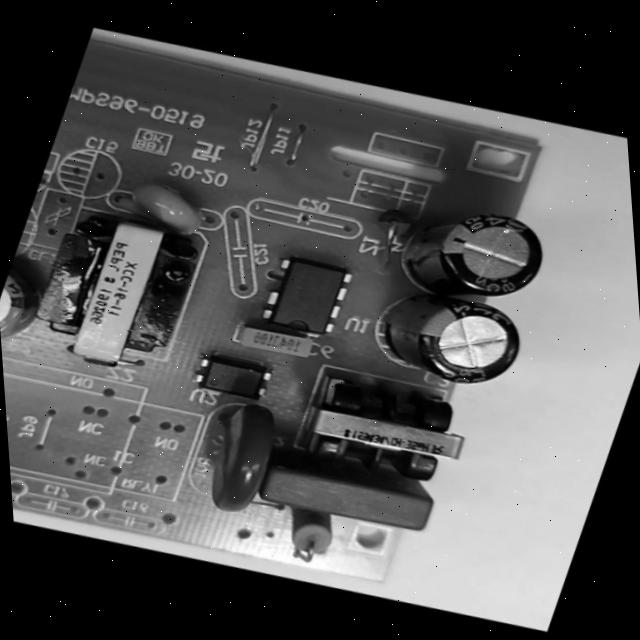Cap1: (0, 249, 65, 367)
Cap3: (344, 270, 544, 410)
Cap4: (372, 177, 572, 326)
MOSFET: (238, 238, 376, 357)
Mov: (175, 389, 301, 528)
Resistor: (258, 499, 356, 576)
Transformer: (0, 182, 236, 401), (277, 348, 495, 510)
